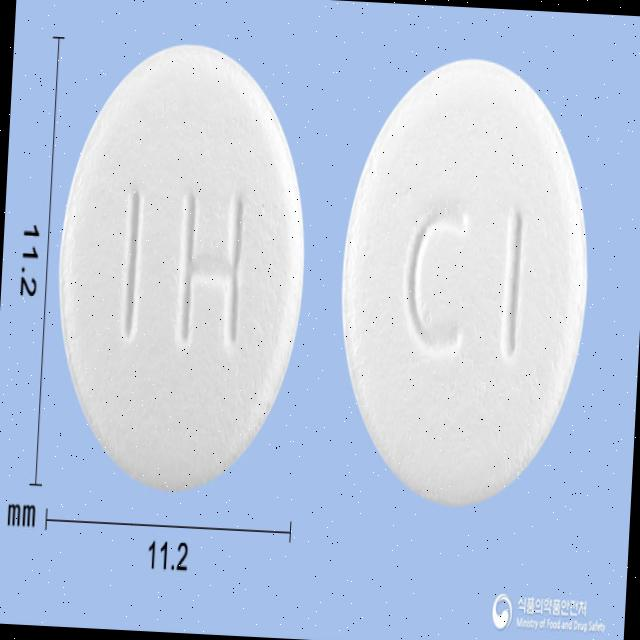Baraclude: (48, 34, 316, 500), (332, 53, 600, 510)
